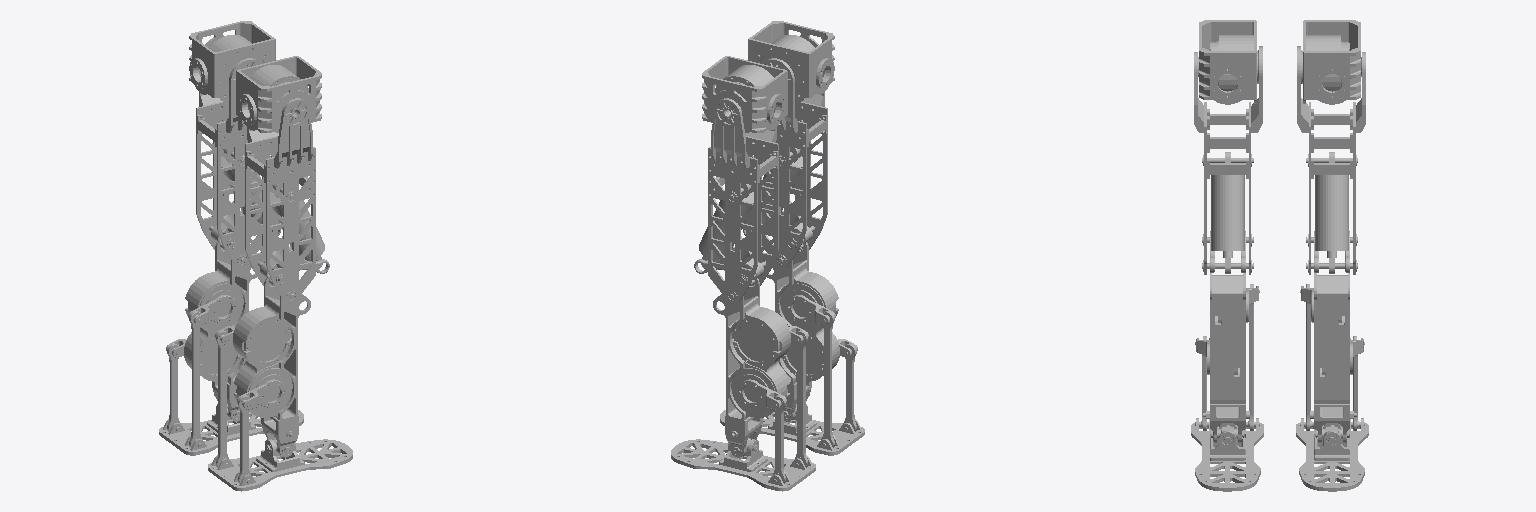
The robot description file, URDF, robot "hustBot2.5":
<?xml version="1.0" encoding="utf-8"?>
<!-- This URDF was automatically created by SolidWorks to URDF Exporter! Originally created by [author] ([email redacted]) 
     Commit Version: 1.6.0-4-g7f85cfe  Build Version: 1.6.7995.38578
     For more information, please see http://wiki.ros.org/sw_urdf_exporter -->
<robot
  name="hustBot2.5">
  <link
    name="base_link">
    <inertial>
      <origin
        xyz="-0.02793294 0.00000000 0.10328222"
        rpy="0 0 0" />
      <mass
        value="17.43197168" />
      <inertia
        ixx="1.06303697"
        ixy="-0.00000113"
        ixz="-0.09959397"
        iyy="0.64743628"
        iyz="0"
        izz="0.59196449" />
    </inertial>
    <visual>
      <origin
        xyz="0 0 0"
        rpy="0 0 0" />
      <geometry>
        <mesh
          filename="../meshes/base_link.STL" />
      </geometry>
      <material
        name="">
        <color
          rgba="0.75294 0.75294 0.75294 1" />
      </material>
    </visual>
    <!-- <collision>
      <origin
        xyz="0 0 0"
        rpy="0 0 0" />
      <geometry>
        <mesh
          filename="../meshes/base_link.STL" />
      </geometry>
    </collision> -->
    <collision>
      <origin xyz="0 0 0" rpy="0 0 0" />
      <geometry>
        <box size="0.135 0.12 0.15" /><!--宽 长 高!-->
      </geometry>
    </collision>
  </link>
  <link
    name="right_hip_roll_Link">
    <inertial>
      <origin
        xyz=" -0.00111320 0.00304721 0.00232814"
        rpy="0 0 0" />
      <mass
        value="3.25187885" />
      <inertia
        ixx="0.00633026"
        ixy="-0.00001103"
        ixz="-0.00000843"
        iyy="0.00754996"
        iyz="0.00004649"
        izz="0.00784762" />
    </inertial>
    <visual>
      <origin
        xyz="0 0 0"
        rpy="0 0 0" />
      <geometry>
        <mesh
          filename="../meshes/right_hip_roll_Link.STL" />
      </geometry>
      <material
        name="">
        <color
          rgba="0.75294 0.75294 0.75294 1" />
      </material>
    </visual>
    <!-- <collision>
      <origin
        xyz="0 0 0"
        rpy="0 0 0" />
      <geometry>
        <mesh
          filename="../meshes/right_hip_roll_Link.STL" />
      </geometry>
    </collision> -->
    <collision>
      <origin
        xyz="0 0 0"
        rpy="1.57 0 1.57" />
      <geometry>
        <box size="0.02 0.02 0.05" />
      </geometry>
    </collision>
  </link>
  <joint
    name="right_hip_roll_joint"
    type="revolute">
    <origin
      xyz="-0.0035 -0.1 -0.095"
      rpy="0 0 0" />
    <parent
      link="base_link" />
    <child
      link="right_hip_roll_Link" />
    <axis
      xyz="1 0 0" />
    <limit
      lower="-0.52"
      upper="0.52"
      effort="100"
      velocity="23" />
  </joint>
  <link
    name="right_hip_pitch_link">
    <inertial>
      <origin
        xyz="0.01999093 0.00086528 -0.24943097"
        rpy="0 0 0" />
      <mass
        value="3.38620379" />
      <inertia
        ixx="0.04239492"
        ixy="0.00005857"
        ixz="0.00348260"
        iyy="0.04253592"
        iyz="-0.00070795"
        izz="0.00757530" />
    </inertial>
    <visual>
      <origin
        xyz="0 0 0"
        rpy="0 0 0" />
      <geometry>
        <mesh
          filename="../meshes/right_hip_pitch_link.STL" />
      </geometry>
      <material
        name="">
        <color
          rgba="0.75294 0.75294 0.75294 1" />
      </material>
    </visual>
    <!-- <collision>
      <origin
        xyz="0 0 0"
        rpy="0 0 0" />
      <geometry>
        <mesh
          filename="../meshes/right_hip_pitch_link.STL" />
      </geometry>
    </collision> -->
    <collision>
      <origin xyz="0 0.0046 -0.057" rpy="1.57 0 0" />
      <geometry>
        <cylinder length="0.07" radius="0.01"/>
      </geometry>
    </collision>
  </link>
  <joint
    name="right_hip_pitch_joint"
    type="revolute">
    <origin
      xyz="0 0 0"
      rpy="0 0 0" />
    <parent
      link="right_hip_roll_Link" />
    <child
      link="right_hip_pitch_link" />
    <axis
      xyz="0 1 0" />
    <limit
      lower="-0.6"
      upper="0.38"
      effort="130"
      velocity="23" />
  </joint>
  <link
    name="right_knee_Link">
    <inertial>
      <origin
        xyz=" -0.03430505 0.00055702 -0.17993853"
        rpy="0 0 0" />
      <mass
        value="3.41803688" />
      <inertia
        ixx="0.02663326"
        ixy="0.00014900"
        ixz="0.00005917"
        iyy="0.03002617"
        iyz="-0.00103523"
        izz="0.00696841" />
    </inertial>
    <visual>
      <origin
        xyz="0 0 0"
        rpy="0 0 0" />
      <geometry>
        <mesh
          filename="../meshes/right_knee_Link.STL" />
      </geometry>
      <material
        name="">
        <color
          rgba="0.75294 0.75294 0.75294 1" />
      </material>
    </visual>
    <!-- <collision>
      <origin
        xyz="0 0 0"
        rpy="0 0 0" />
      <geometry>
        <mesh
          filename="../meshes/right_knee_Link.STL" />
      </geometry>
    </collision> -->
    <collision>
      <origin xyz="0.015 0.02 -0.1" rpy="1.57 0 0" />
      <geometry>
        <box size="0.06 0.25 0.05" />
      </geometry>
    </collision>
  </link>
  <joint
    name="right_knee_joint"
    type="revolute">
    <origin
      xyz="0 0 -0.42"
      rpy="0 0 0" />
    <parent
      link="right_hip_pitch_link" />
    <child
      link="right_knee_Link" />
    <axis
      xyz="0 1 0" />
    <limit
      lower="0"
      upper="1.48"
      effort="130"
      velocity="23" />
  </joint>
  <link
    name="right_ankle_Link">
    <inertial>
      <origin
        xyz="-1.5122E-10 6.9544E-10 -1.3892E-12"
        rpy="0 0 0" />
      <mass
        value="0.11300208" />
      <inertia
        ixx="0.00002870"
        ixy="0"
        ixz="0"
        iyy="0.00002870"
        iyz="0"
        izz="0.00005096" />
    </inertial>
    <visual>
      <origin
        xyz="0 0 0"
        rpy="0 0 0" />
      <geometry>
        <mesh
          filename="../meshes/right_ankle_Link.STL" />
      </geometry>
      <material
        name="">
        <color
          rgba="0.75294 0.75294 0.75294 1" />
      </material>
    </visual>
    <!-- <collision>
      <origin
        xyz="0 0 0"
        rpy="0 0 0" />
      <geometry>
        <mesh
          filename="../meshes/right_ankle_Link.STL" />
      </geometry>
    </collision> -->
    <collision>
      <origin
        xyz="0 0 0"
        rpy="0 0 0" />
      <geometry>
        <box size="0.001 0.001 0.001" />
      </geometry>
    </collision>
  </link>
  <joint
    name="right_ankle_joint"
    type="revolute">
    <origin
      xyz="0 0 -0.355"
      rpy="0 0 0" />
    <parent
      link="right_knee_Link" />
    <child
      link="right_ankle_Link" />
    <axis
      xyz="0 1 0" />
    <limit
      lower="-0.6"
      upper="0.4"
      effort="60"
      velocity="23" />
  </joint>
  <link
    name="right_foot_Link">
    <inertial>
      <origin
        xyz=" -0.01487308 0 -0.03761178"
        rpy="0 0 0" />
      <mass
        value="0.69926423" />
      <inertia
        ixx="0.00093501"
        ixy="0"
        ixz="0.00006341"
        iyy="0.00530221"
        iyz="0"
        izz="0.00610429" />
    </inertial>
    <visual>
      <origin
        xyz="0 0 0"
        rpy="0 0 0" />
      <geometry>
        <mesh
          filename="../meshes/right_foot_Link.STL" />
      </geometry>
      <material
        name="">
        <color
          rgba="0.75294 0.75294 0.75294 1" />
      </material>
    </visual>
    <!-- <collision>
      <origin
        xyz="0 0 0"
        rpy="0 0 0" />
      <geometry>
        <mesh
          filename="../meshes/right_foot_Link.STL" />
      </geometry>
    </collision> -->
    <collision>
      <origin
        xyz="0 0 -0.0415"
        rpy="0 0 0" />
      <geometry>
        <box size="0.3 0.1 0.005" />
      </geometry>
    </collision>
  </link>
  <joint
    name="right_foot_joint"
    type="revolute">
    <origin
      xyz="0 0 0"
      rpy="0 0 0" />
    <parent
      link="right_ankle_Link" />
    <child
      link="right_foot_Link" />
    <axis
      xyz="1 0 0" />
    <limit
      lower="-0.26"
      upper="0.26"
      effort="60"
      velocity="23" />
  </joint>
  <link
    name="left_hip_roll_Link">
    <inertial>
      <origin
        xyz="-0.00111320 -0.00304717 0.00232816"
        rpy="0 0 0" />
      <mass
        value="3.25188284" />
      <inertia
        ixx="0.00633027"
        ixy="0.00001103"
        ixz="-0.00000843"
        iyy="0.00754997"
        iyz="-0.00004649"
        izz="0.00784763" />
    </inertial>
    <visual>
      <origin
        xyz="0 0 0"
        rpy="0 0 0" />
      <geometry>
        <mesh
          filename="../meshes/left_hip_roll_Link.STL" />
      </geometry>
      <material
        name="">
        <color
          rgba="0.75294 0.75294 0.75294 1" />
      </material>
    </visual>
    <!-- <collision>
      <origin
        xyz="0 0 0"
        rpy="0 0 0" />
      <geometry>
        <mesh
          filename="../meshes/left_hip_roll_Link.STL" />
      </geometry>
    </collision> -->
    <collision>
      <origin xyz="0 0 0" rpy="1.57 0 1.57" />
      <geometry>
        <box size="0.02 0.02 0.05" />
      </geometry>
    </collision>
  </link>
  <joint
    name="left_hip_roll_joint"
    type="revolute">
    <origin
      xyz="-0.0035 0.1 -0.095"
      rpy="0 0 0" />
    <parent
      link="base_link" />
    <child
      link="left_hip_roll_Link" />
    <axis
      xyz="1 0 0" />
    <limit
      lower="-0.52"
      upper="0.52"
      effort="130"
      velocity="23" />
  </joint>
  <link
    name="left_hip_pitch_link">
    <inertial>
      <origin
        xyz="0.01999093 -0.00086528 -0.24943097"
        rpy="0 0 0" />
      <mass
        value="3.38620379" />
      <inertia
        ixx="0.04239492"
        ixy="-0.00005857"
        ixz="0.00348260"
        iyy="0.04253592"
        iyz="0.00070795"
        izz="0.00757530" />
    </inertial>
    <visual>
      <origin
        xyz="0 0 0"
        rpy="0 0 0" />
      <geometry>
        <mesh
          filename="../meshes/left_hip_pitch_link.STL" />
      </geometry>
      <material
        name="">
        <color
          rgba="0.75294 0.75294 0.75294 1" />
      </material>
    </visual>
    <!-- <collision>
      <origin
        xyz="0 0 0"
        rpy="0 0 0" />
      <geometry>
        <mesh
          filename="../meshes/left_hip_pitch_link.STL" />
      </geometry>
    </collision> -->
    <collision>
      <origin xyz="0 -0.0046 -0.057" rpy="1.57 0 0" />
      <geometry>
        <cylinder length="0.07" radius="0.01"/>
      </geometry>
    </collision>
  </link>
  <joint
    name="left_hip_pitch_joint"
    type="revolute">
    <origin
      xyz="0 0 0"
      rpy="0 0 0" />
    <parent
      link="left_hip_roll_Link" />
    <child
      link="left_hip_pitch_link" />
    <axis
      xyz="0 1 0" />
    <limit
      lower="-0.6"
      upper="0.38"
      effort="130"
      velocity="23" />
  </joint>
  <link
    name="left_knee_Link">
    <inertial>
      <origin
        xyz=" -0.03437545 -0.00055013  -0.17969206"
        rpy="0 0 0" />
      <mass
        value="3.46081842" />
      <inertia
        ixx="0.02681866"
        ixy="-0.00014887"
        ixz="0.00006397"
        iyy="0.03023168"
        iyz="0.00104840"
        izz="0.00700897" />
    </inertial>
    <visual>
      <origin
        xyz="0 0 0"
        rpy="0 0 0" />
      <geometry>
        <mesh
          filename="../meshes/left_knee_Link.STL" />
      </geometry>
      <material
        name="">
        <color
          rgba="0.75294 0.75294 0.75294 1" />
      </material>
    </visual>
    <!-- <collision>
      <origin
        xyz="0 0 0"
        rpy="0 0 0" />
      <geometry>
        <mesh
          filename="../meshes/left_knee_Link.STL" />
      </geometry>
    </collision> -->
    <collision>
      <origin xyz="0.015 -0.02 -0.1" rpy="1.57 0 0" />
      <geometry>
        <box size="0.06 0.25 0.05" />
      </geometry>
    </collision>
  </link>
  <joint
    name="left_knee_joint"
    type="revolute">
    <origin
      xyz="0 0 -0.42"
      rpy="0 0 0" />
    <parent
      link="left_hip_pitch_link" />
    <child
      link="left_knee_Link" />
    <axis
      xyz="0 1 0" />
    <limit
      lower="0"
      upper="1.48"
      effort="130"
      velocity="23" />
  </joint>
  <link
    name="left_ankle_Link">
    <inertial>
      <origin
        xyz="-1.5122E-10 6.9544E-10 -1.3891E-12"
        rpy="0 0 0" />
      <mass
        value="0.11300208" />
      <inertia
        ixx="0.00002870"
        ixy="0"
        ixz="0"
        iyy="0.00002870"
        iyz="0"
        izz="0.00005096" />
    </inertial>
    <visual>
      <origin
        xyz="0 0 0"
        rpy="0 0 0" />
      <geometry>
        <mesh
          filename="../meshes/left_ankle_Link.STL" />
      </geometry>
      <material
        name="">
        <color
          rgba="0.75294 0.75294 0.75294 1" />
      </material>
    </visual>
    <!-- <collision>
      <origin
        xyz="0 0 0"
        rpy="0 0 0" />
      <geometry>
        <mesh
          filename="../meshes/left_ankle_Link.STL" />
      </geometry>
    </collision> -->
    <collision>
      <origin
        xyz="0 0 0"
        rpy="0 0 0" />
      <geometry>
        <box size="0.001 0.001 0.001" />
      </geometry>
    </collision>
  </link>
  <joint
    name="left_ankle_joint"
    type="revolute">
    <origin
      xyz="0 0 -0.355"
      rpy="0 0 0" />
    <parent
      link="left_knee_Link" />
    <child
      link="left_ankle_Link" />
    <axis
      xyz="0 1 0" />
    <limit
      lower="-0.6"
      upper="0.4"
      effort="60"
      velocity="23" />
  </joint>
  <link
    name="left_foot_Link">
    <inertial>
      <origin
        xyz="-0.01487308 0 -0.03761178"
        rpy="0 0 0" />
      <mass
        value="0.69926423" />
      <inertia
        ixx="0.00093501"
        ixy="0"
        ixz="0.00006341"
        iyy="0.00530221"
        iyz="0"
        izz="0.00610429" />
    </inertial>
    <visual>
      <origin
        xyz="0 0 0"
        rpy="0 0 0" />
      <geometry>
        <mesh
          filename="../meshes/left_foot_Link.STL" />
      </geometry>
      <material
        name="">
        <color
          rgba="0.75294 0.75294 0.75294 1" />
      </material>
    </visual>
    <!-- <collision>
      <origin
        xyz="0 0 0"
        rpy="0 0 0" />
      <geometry>
        <mesh
          filename="../meshes/left_foot_Link.STL" />
      </geometry>
    </collision> -->
    <collision>
      <origin
        xyz="0 0 -0.0415"
        rpy="0 0 0" />
      <geometry>
        <box size="0.3 0.1 0.01" />
      </geometry>
    </collision>

  </link>
  <joint
    name="left_foot_joint"
    type="revolute">
    <origin
      xyz="0 0 0"
      rpy="0 0 0" />
    <parent
      link="left_ankle_Link" />
    <child
      link="left_foot_Link" />
    <axis
      xyz="1 0 0" />
    <limit
      lower="-0.26"
      upper="0.26"
      effort="60"
      velocity="23" />
  </joint>
</robot>

--- What the picture shows (computed from the rendered views, not written in the file) ---
The picture shows the robot from 3 angles, left to right: view 1: azimuth 30°, elevation 25°; view 2: azimuth 150°, elevation 25°; view 3: azimuth 270°, elevation 25°; orthographic projection.
Model hustBot2.5 with 11 links and 10 joints (10 revolute), rooted at base_link, posed all joints at 0.
Visible links, largest first — view 1: right_hip_pitch_link, right_knee_Link, left_hip_pitch_link, left_knee_Link, right_hip_roll_Link, left_hip_roll_Link, right_foot_Link, left_foot_Link; view 2: left_hip_pitch_link, left_knee_Link, right_hip_pitch_link, right_knee_Link, left_hip_roll_Link, right_hip_roll_Link, left_foot_Link, right_foot_Link; view 3: right_hip_pitch_link, left_hip_pitch_link, right_knee_Link, left_knee_Link, right_hip_roll_Link, left_hip_roll_Link, right_foot_Link, left_foot_Link.
Boxes of the visible links, <box> form: right_hip_pitch_link: <box>245,98,329,303</box>; right_knee_Link: <box>215,278,310,482</box>; left_hip_pitch_link: <box>196,58,280,267</box>; left_knee_Link: <box>166,242,256,446</box>; right_hip_roll_Link: <box>236,56,321,132</box>; left_hip_roll_Link: <box>189,21,275,104</box>; right_foot_Link: <box>208,439,352,491</box>; left_foot_Link: <box>159,404,303,455</box>; left_hip_pitch_link: <box>694,98,778,303</box>; left_knee_Link: <box>713,278,808,482</box>; right_hip_pitch_link: <box>743,58,827,267</box>; right_knee_Link: <box>767,242,857,446</box>; left_hip_roll_Link: <box>702,56,787,132</box>; right_hip_roll_Link: <box>748,21,834,104</box>; left_foot_Link: <box>671,439,815,491</box>; right_foot_Link: <box>720,404,864,455</box>; right_hip_pitch_link: <box>1194,46,1262,274</box>; left_hip_pitch_link: <box>1297,46,1365,274</box>; right_knee_Link: <box>1195,273,1259,442</box>; left_knee_Link: <box>1300,273,1364,442</box>; right_hip_roll_Link: <box>1199,20,1256,104</box>; left_hip_roll_Link: <box>1303,20,1360,104</box>; right_foot_Link: <box>1191,418,1263,491</box>; left_foot_Link: <box>1296,418,1368,491</box>.
Size in the robot's own frame: 0.3 by 0.34 by 0.887 metres.
10 mesh visuals loaded from 11 distinct referenced files (10 binary STL); not drawn: 1 (reference not matched to a file when rendering).